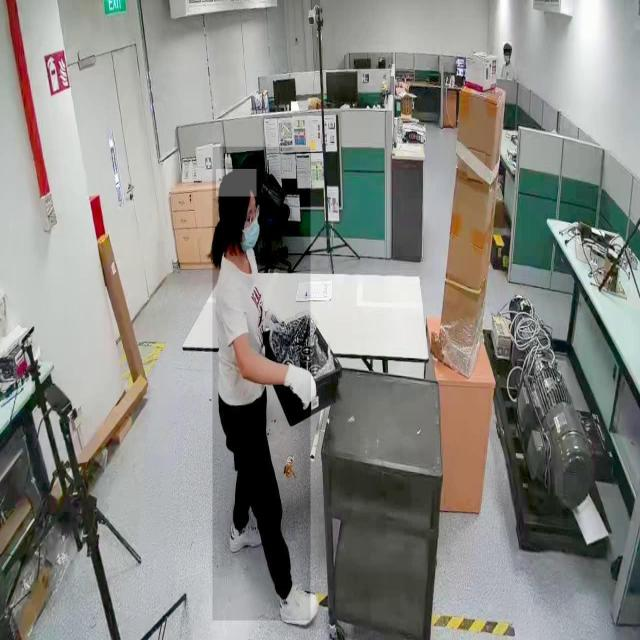face_mask: (239, 216, 267, 257)
hand_glove: (281, 355, 320, 414)
head_nohelmet: (216, 169, 257, 197), (503, 42, 512, 50)
person: (213, 147, 311, 621)
shoes: (277, 584, 322, 627), (225, 512, 271, 554)
